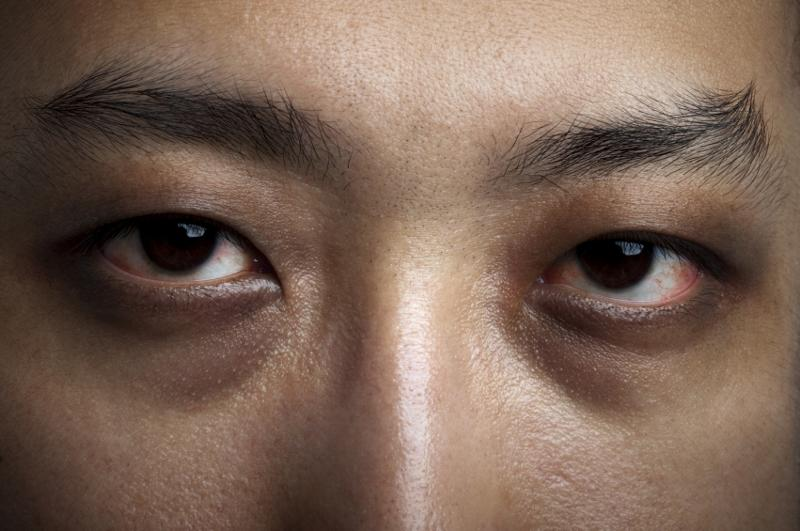Eyebags: (494, 191, 773, 420), (20, 198, 291, 415)
